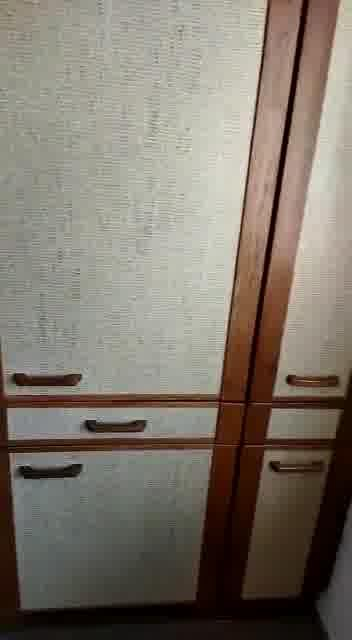cabinet_door: (0, 0, 259, 401), (0, 448, 224, 616), (267, 0, 352, 402), (232, 447, 345, 603), (3, 403, 244, 447)
handle: (16, 457, 85, 483), (9, 369, 84, 391), (281, 369, 342, 395), (83, 412, 149, 436), (267, 458, 328, 478)
